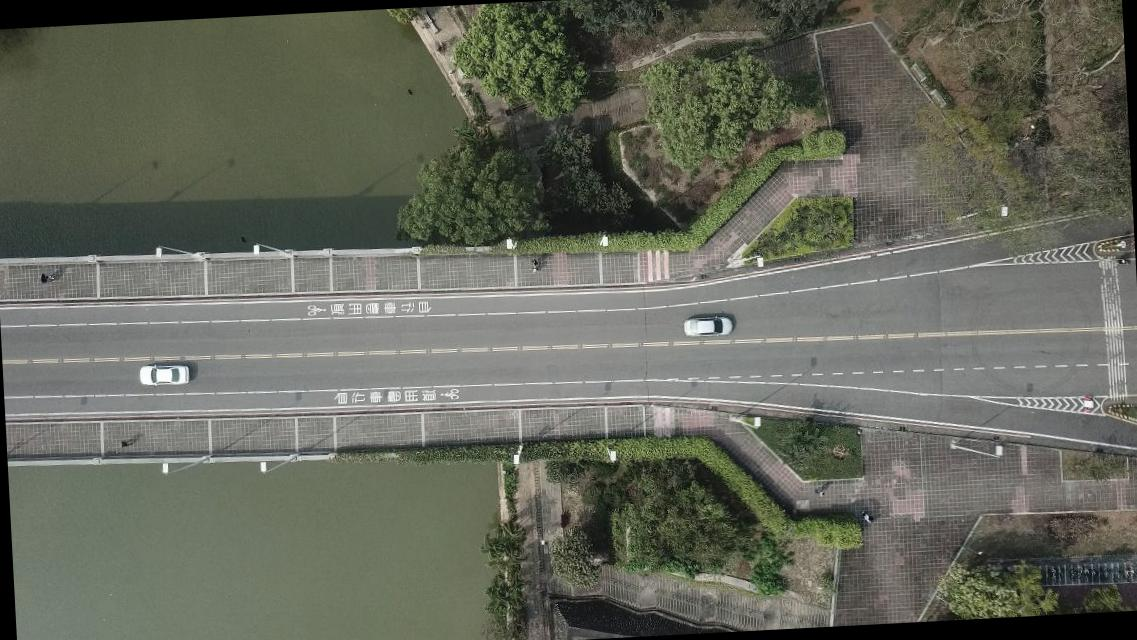vehicle: (682, 313, 734, 339), (139, 361, 190, 386)
